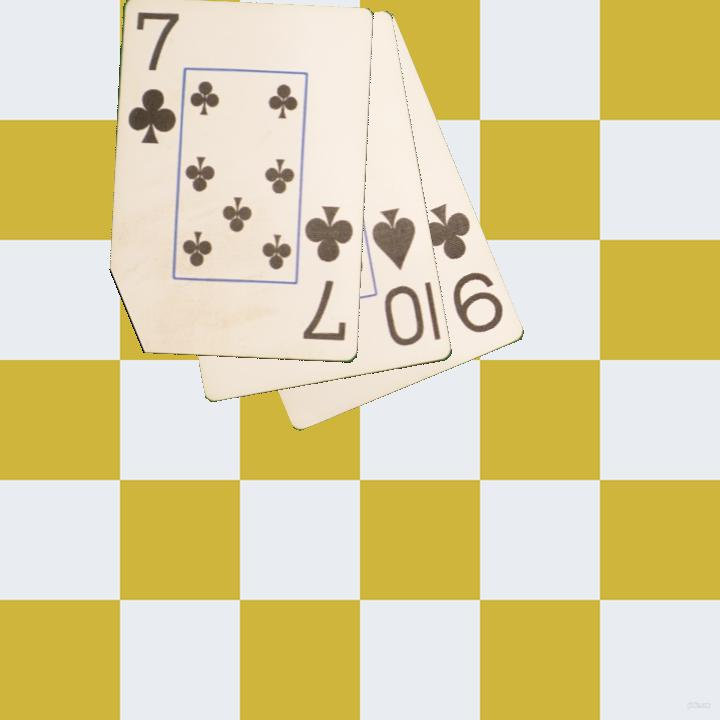10s: (369, 204, 428, 350)
7c: (299, 202, 357, 344), (125, 8, 183, 147)
9c: (419, 200, 507, 337)
